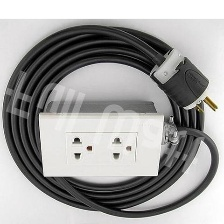three_eye_plug: (28, 90, 171, 190)
